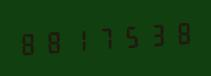eight: (17, 26, 41, 60), (42, 24, 66, 58), (167, 15, 191, 49)
five: (117, 19, 141, 53)
one: (67, 22, 91, 56)
seven: (92, 20, 116, 55)
three: (142, 17, 166, 51)
